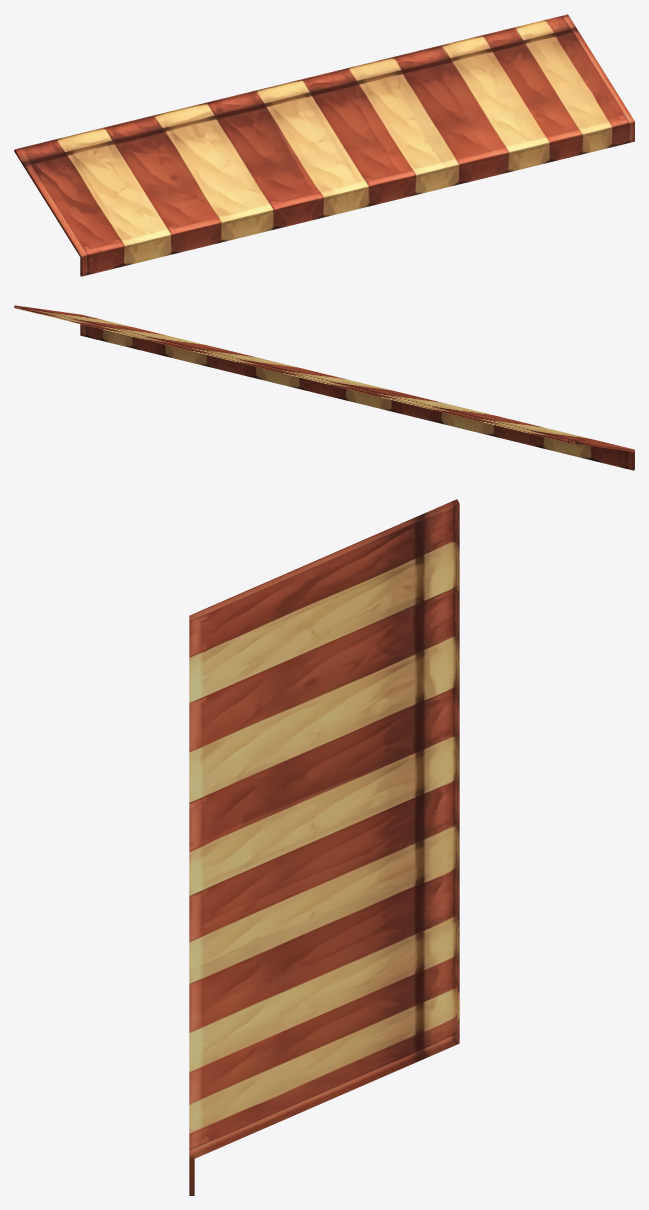
The model's file is SPN_Awning6.fbx.
3 views of the same model, one above another, from view 1: azimuth 30°, elevation 25°; view 2: azimuth 150°, elevation 25°; view 3: azimuth 270°, elevation 25° (orthographic). The views are drawn at different scales.
Parts seen in each view (by area): view 1: SPN_Awning6; view 2: SPN_Awning6; view 3: SPN_Awning6.
Part boxes in pixels (left/top/right/bottom): SPN_Awning6: left=14, top=14, right=634, bottom=276; SPN_Awning6: left=14, top=305, right=634, bottom=470; SPN_Awning6: left=189, top=499, right=459, bottom=1195.
Size of the model in its own units: 6 by 1.27 by 0.8113.
1 material, 1 textured.
